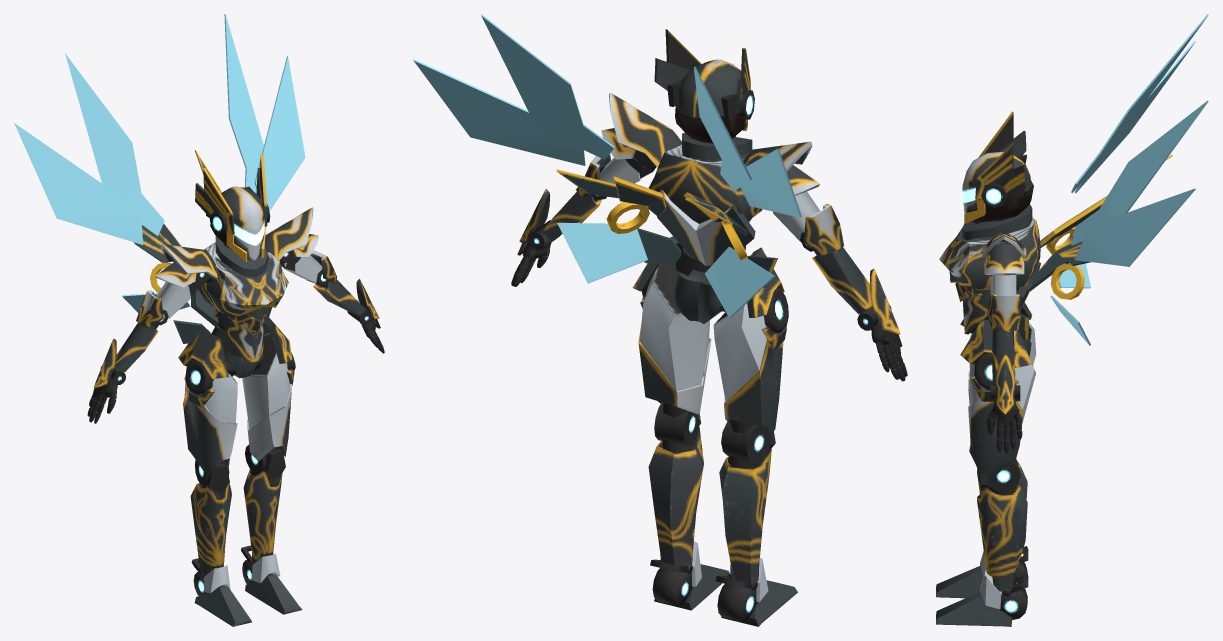
The model's file is Female_1.glb.
3 renders of one model, left to right at view 1: azimuth 30°, elevation 25°; view 2: azimuth 150°, elevation 25°; view 3: azimuth 270°, elevation 25°, orthographic. The views are drawn at different scales.
Visible parts, largest first — view 1: W1, WW2, GNG, WW1, BR1, GV2, GV1, NT, BR2, GV1.1, ARM1; view 2: W1, WW2, WW1, GNG, GV2, NT, GV1, ARM1, BR1; view 3: W1, WW2, GNG, WW1, BR2, NT, GV2.2, ARM2, GV2.
Part boxes in pixels (<box>): W1: <box>87,154,384,626</box>; WW2: <box>14,14,305,312</box>; GNG: <box>199,242,288,321</box>; WW1: <box>134,150,272,343</box>; BR1: <box>178,329,228,378</box>; GV2: <box>265,207,313,260</box>; GV1: <box>161,244,217,279</box>; NT: <box>215,236,268,277</box>; BR2: <box>263,314,292,363</box>; GV1.1: <box>155,262,196,287</box>; ARM1: <box>93,338,116,387</box>; W1: <box>511,29,907,626</box>; WW2: <box>413,14,801,318</box>; WW1: <box>556,169,777,287</box>; GNG: <box>648,144,762,223</box>; GV2: <box>609,92,681,167</box>; NT: <box>682,132,752,162</box>; GV1: <box>739,141,812,188</box>; ARM1: <box>870,268,900,334</box>; BR1: <box>747,247,784,317</box>; W1: <box>936,111,1036,626</box>; WW2: <box>1050,14,1208,345</box>; GNG: <box>939,217,1040,291</box>; WW1: <box>1016,155,1172,340</box>; BR2: <box>960,319,1032,367</box>; NT: <box>962,204,1032,239</box>; GV2.2: <box>984,244,1024,275</box>; ARM2: <box>996,354,1014,414</box>; GV2: <box>982,231,1026,257</box>.
Size of the model in its own units: 3.6 by 5.8 by 2.62.
2 materials, 2 textured.
